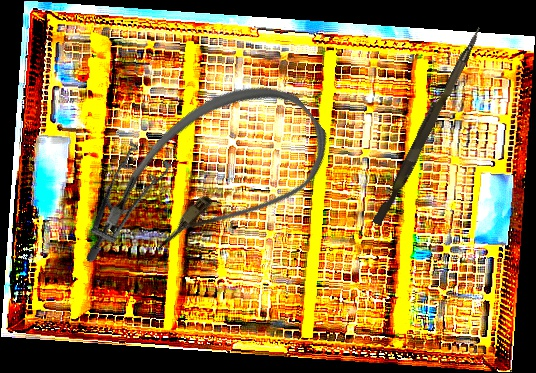Cannula: (84, 53, 345, 300)
Pusher: (372, 22, 483, 229)
Speculum: (48, 130, 196, 264)
